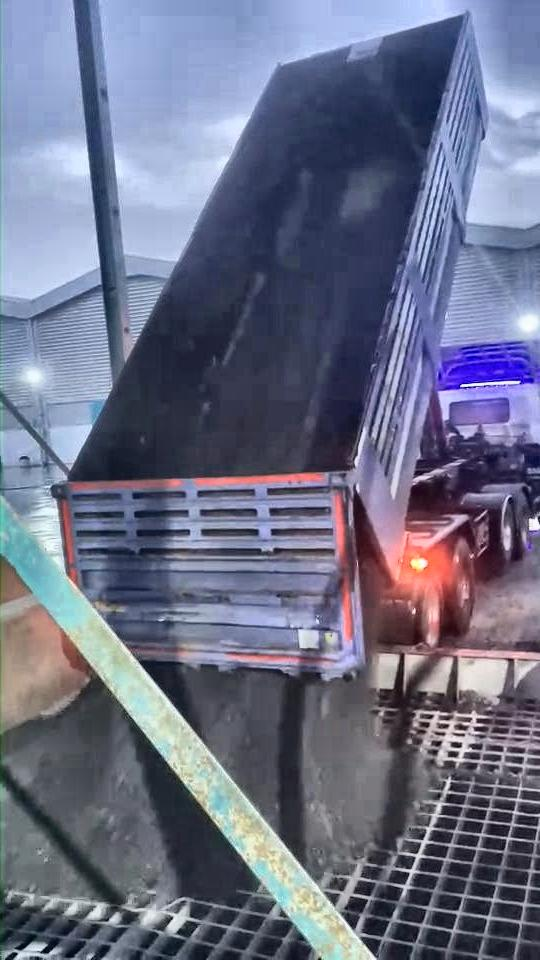gravel: (183, 168, 407, 474), (148, 665, 431, 877), (3, 681, 256, 908)
